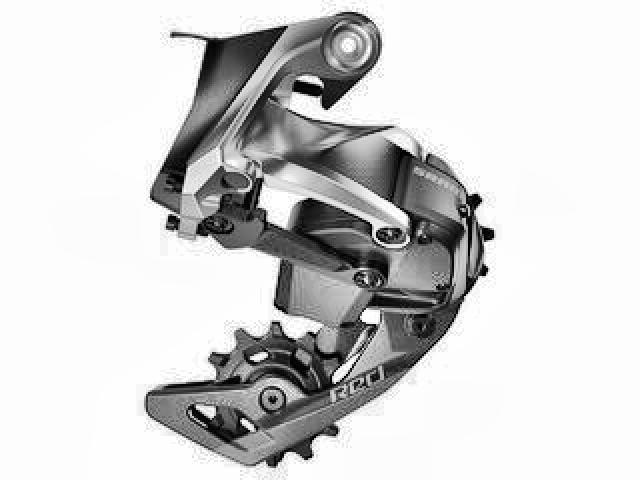rear_derailleur: (142, 12, 494, 466)
